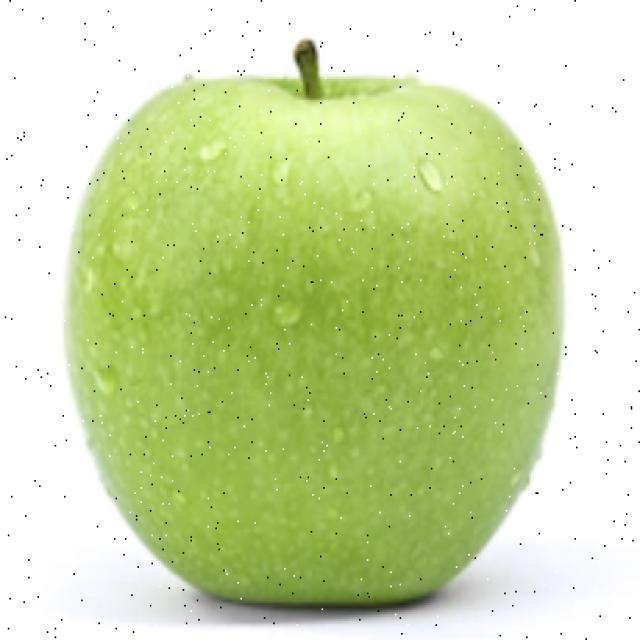Fresh Apple: (83, 68, 547, 600)
